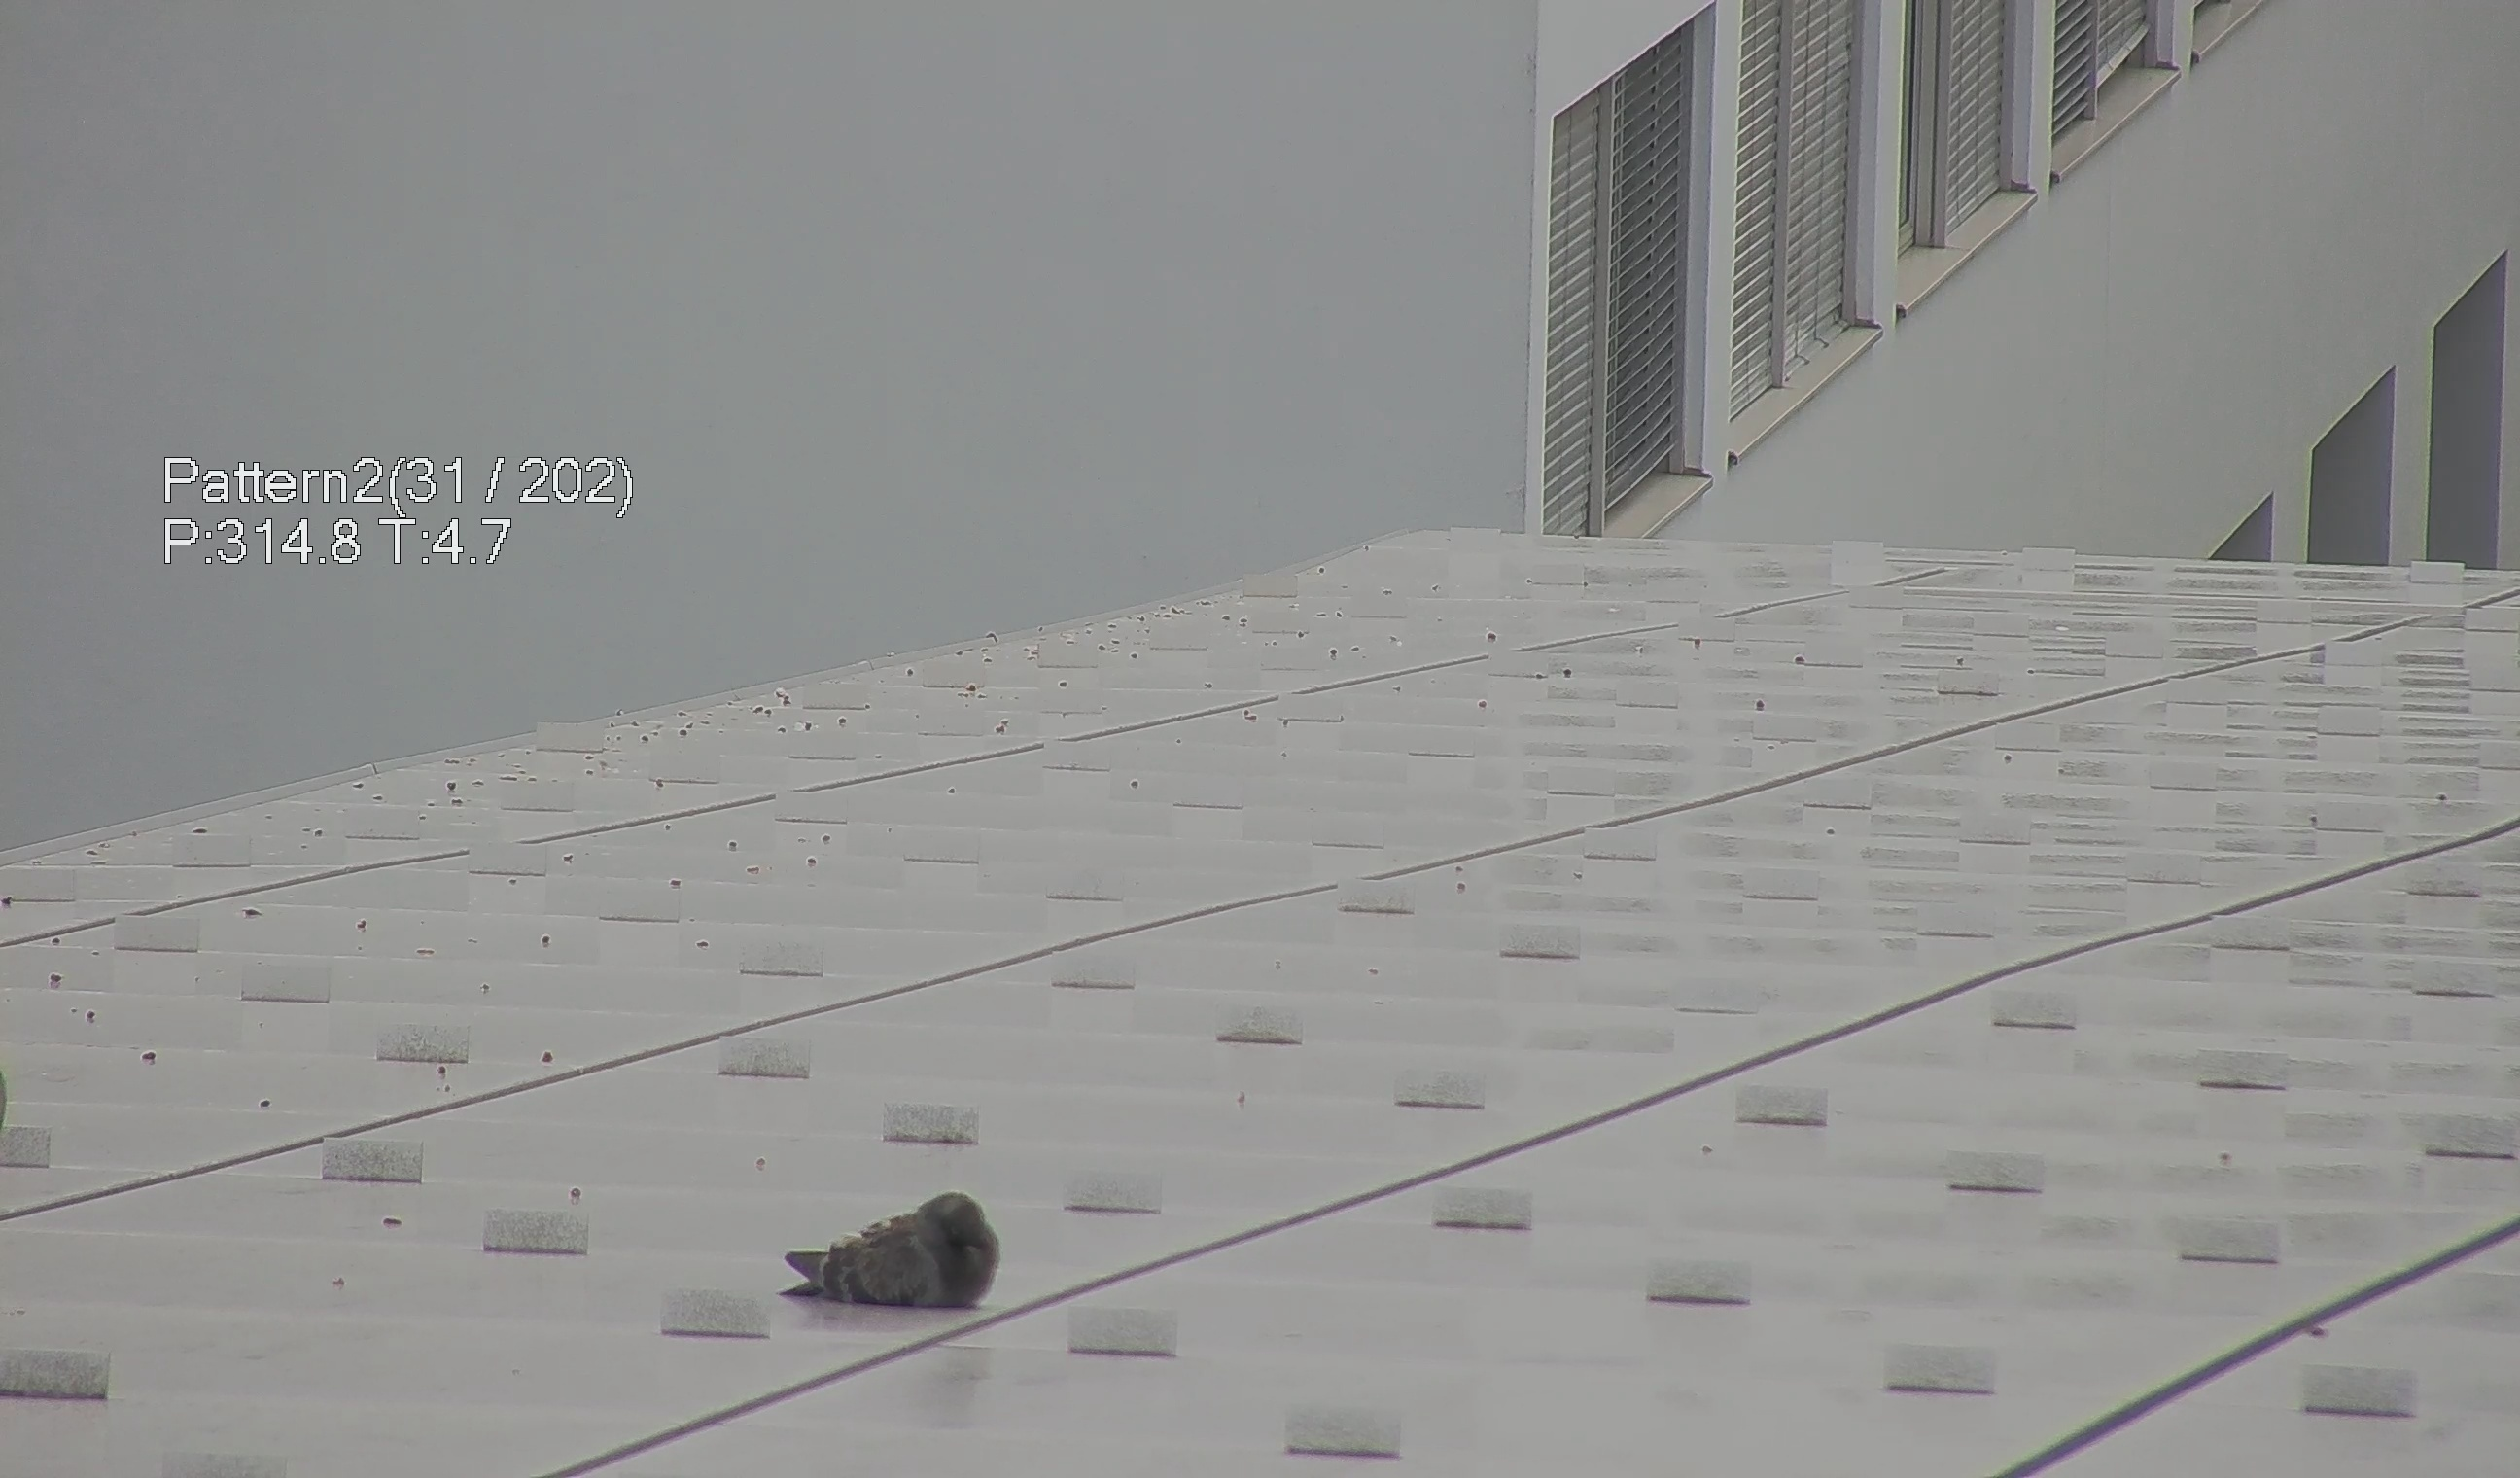Pigeon: (765, 1188, 999, 1323)
